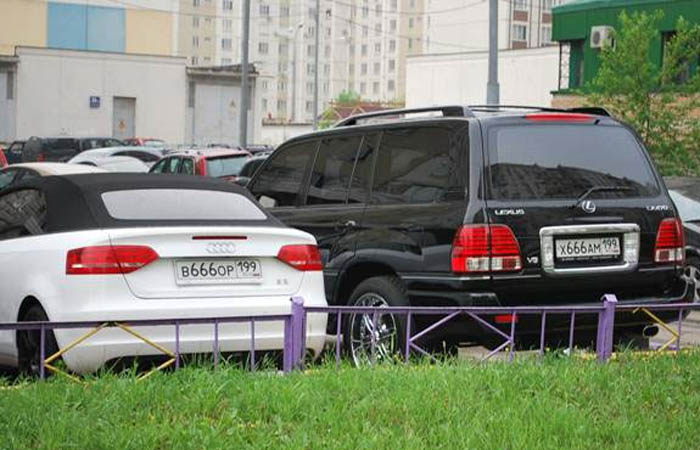car license plate: (172, 254, 264, 285), (553, 237, 622, 265)
